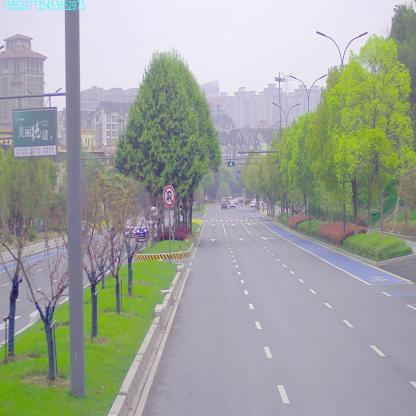traffic-light: (226, 162, 234, 166)
